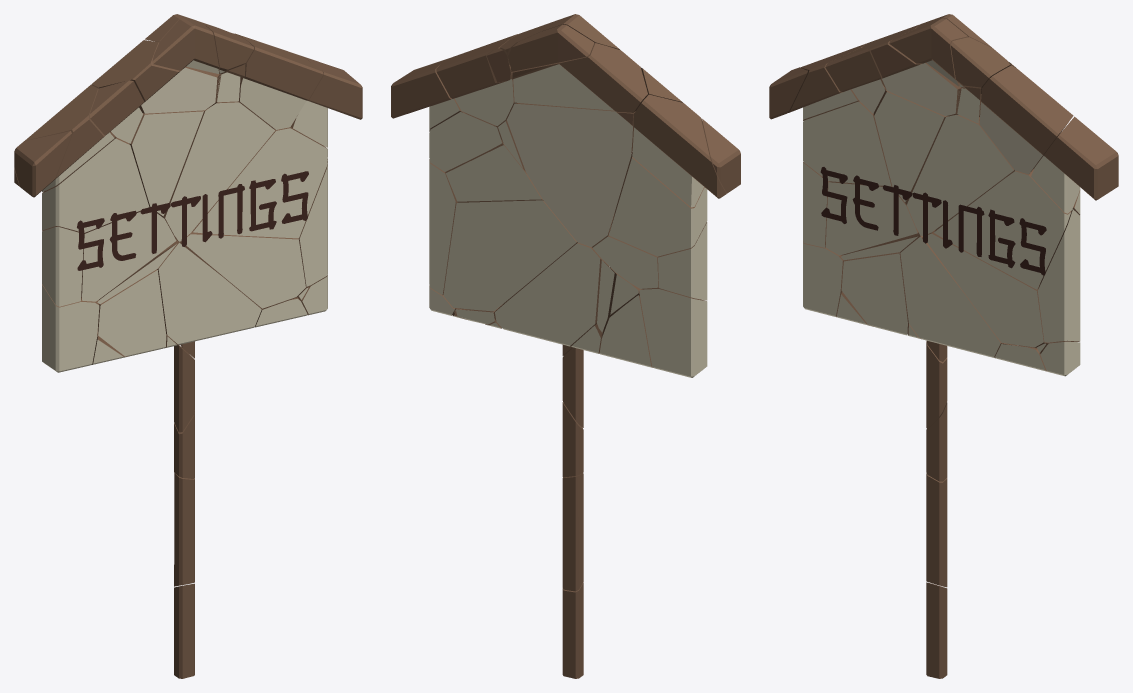
Rendered from bsign-housesettings.fbx.
3 views of the same model, side by side, from view 1: azimuth 30°, elevation 25°; view 2: azimuth 150°, elevation 25°; view 3: azimuth 330°, elevation 25° (orthographic).
Parts seen in each view (by area): view 1: sign_settings01.006, sign_settings01.001_cell.048, sign_settings01.001_cell.047, sign_settings01.001_cell.005, sign_settings01.001_cell.040, sign_settings01.001_cell.011, sign_settings01.001_cell.026, sign_settings01.001_cell.009, sign_settings01.001_cell.010, sign_settings01.001_cell.044, sign_settings01.001_cell.021, sign_settings01.001_cell.049 (+16 smaller); view 2: sign_settings01.001_cell.010, sign_settings01.001_cell.040, sign_settings01.001_cell.047, sign_settings01.001_cell.049, sign_settings01.001_cell.009, sign_settings01.001_cell.005, sign_settings01.001_cell.021, sign_settings01.001_cell.026, sign_settings01.006, sign_settings01.001_cell.050, sign_settings01.001_cell.022, sign_settings01.001_cell.037 (+14 smaller); view 3: sign_settings01.006, sign_settings01.001_cell.048, sign_settings01.001_cell.047, sign_settings01.001_cell.026, sign_settings01.001_cell.011, sign_settings01.001_cell.040, sign_settings01.001_cell.005, sign_settings01.001_cell.022, sign_settings01.001_cell.010, sign_settings01.001_cell.037, sign_settings01.001_cell.044, sign_settings01.001_cell.009 (+15 smaller).
Part boxes in pixels (bbox=[...]): sign_settings01.006: bbox=[192, 127, 327, 242]; sign_settings01.001_cell.048: bbox=[165, 101, 274, 246]; sign_settings01.001_cell.047: bbox=[156, 240, 261, 358]; sign_settings01.001_cell.005: bbox=[42, 137, 149, 233]; sign_settings01.001_cell.040: bbox=[175, 231, 305, 308]; sign_settings01.001_cell.011: bbox=[77, 203, 176, 301]; sign_settings01.001_cell.026: bbox=[238, 35, 323, 129]; sign_settings01.001_cell.009: bbox=[91, 40, 220, 113]; sign_settings01.001_cell.010: bbox=[129, 106, 211, 220]; sign_settings01.001_cell.044: bbox=[98, 269, 166, 356]; sign_settings01.001_cell.021: bbox=[42, 284, 99, 372]; sign_settings01.001_cell.049: bbox=[14, 85, 115, 192]; sign_settings01.001_cell.010: bbox=[507, 103, 635, 247]; sign_settings01.001_cell.040: bbox=[443, 200, 576, 312]; sign_settings01.001_cell.047: bbox=[493, 242, 609, 355]; sign_settings01.001_cell.049: bbox=[632, 94, 726, 207]; sign_settings01.001_cell.009: bbox=[512, 43, 647, 112]; sign_settings01.001_cell.005: bbox=[608, 152, 707, 256]; sign_settings01.001_cell.021: bbox=[639, 289, 707, 377]; sign_settings01.001_cell.026: bbox=[436, 34, 517, 126]; sign_settings01.006: bbox=[445, 140, 543, 202]; sign_settings01.001_cell.050: bbox=[429, 112, 501, 171]; sign_settings01.001_cell.022: bbox=[391, 58, 465, 131]; sign_settings01.001_cell.037: bbox=[429, 159, 457, 295]; sign_settings01.006: bbox=[934, 169, 1071, 289]; sign_settings01.001_cell.048: bbox=[907, 115, 1013, 243]; sign_settings01.001_cell.047: bbox=[900, 232, 1017, 361]; sign_settings01.001_cell.026: bbox=[979, 65, 1073, 174]; sign_settings01.001_cell.011: bbox=[820, 167, 918, 255]; sign_settings01.001_cell.040: bbox=[927, 229, 1054, 348]; sign_settings01.001_cell.005: bbox=[803, 101, 899, 195]; sign_settings01.001_cell.022: bbox=[1031, 116, 1118, 213]; sign_settings01.001_cell.010: bbox=[874, 85, 947, 204]; sign_settings01.001_cell.037: bbox=[1037, 209, 1080, 342]; sign_settings01.001_cell.044: bbox=[841, 252, 907, 335]; sign_settings01.001_cell.009: bbox=[862, 24, 981, 116].
Bounding box in the file's own units: 78.58 × 148 × 9.52.
